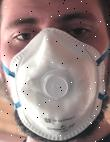with_mask: (2, 2, 110, 142)
